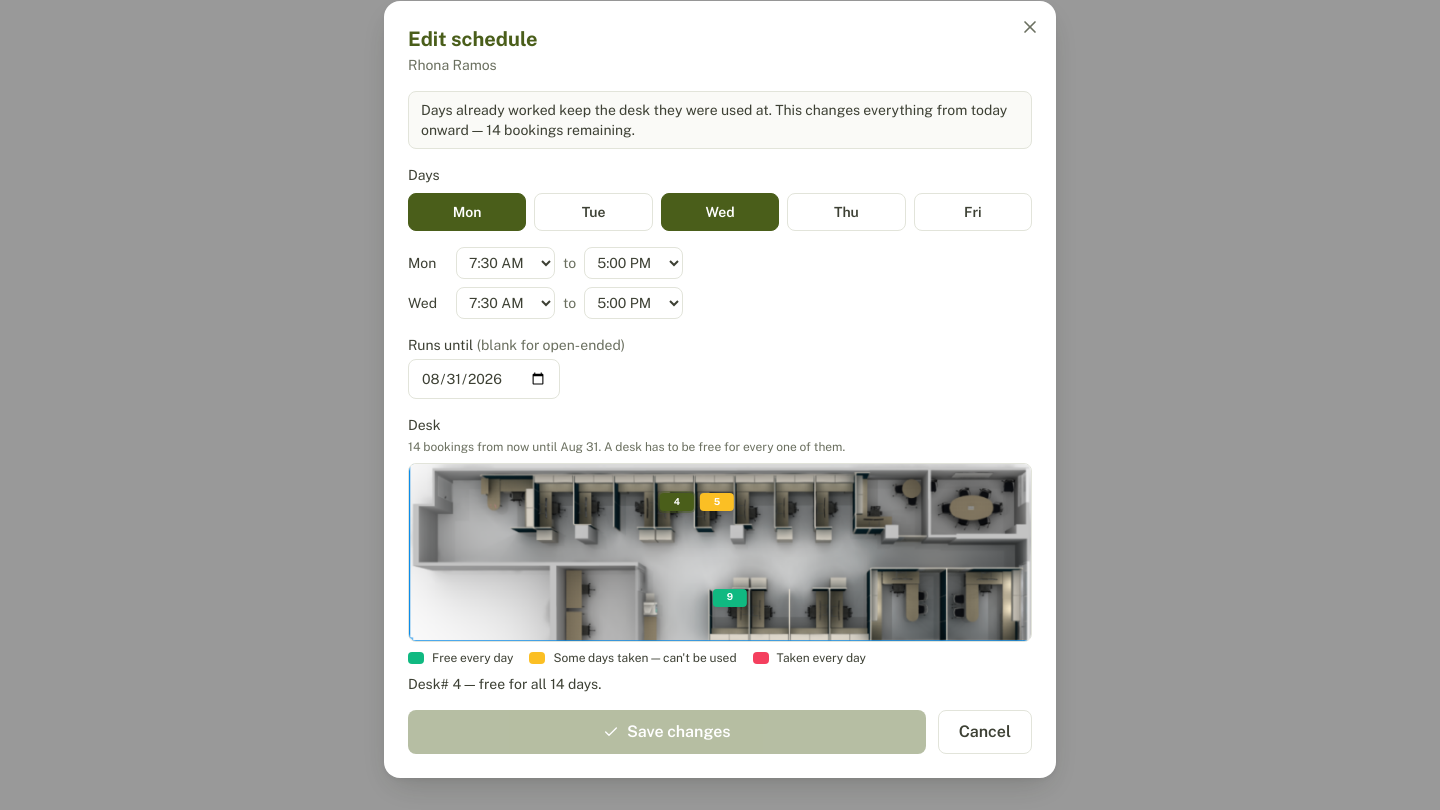
a refusal from the server is shown and the dialog stays open
(page scrolled)
Step 1. Click the button named "Desk 9, available" → point(730, 598), box [713,589,747,606]
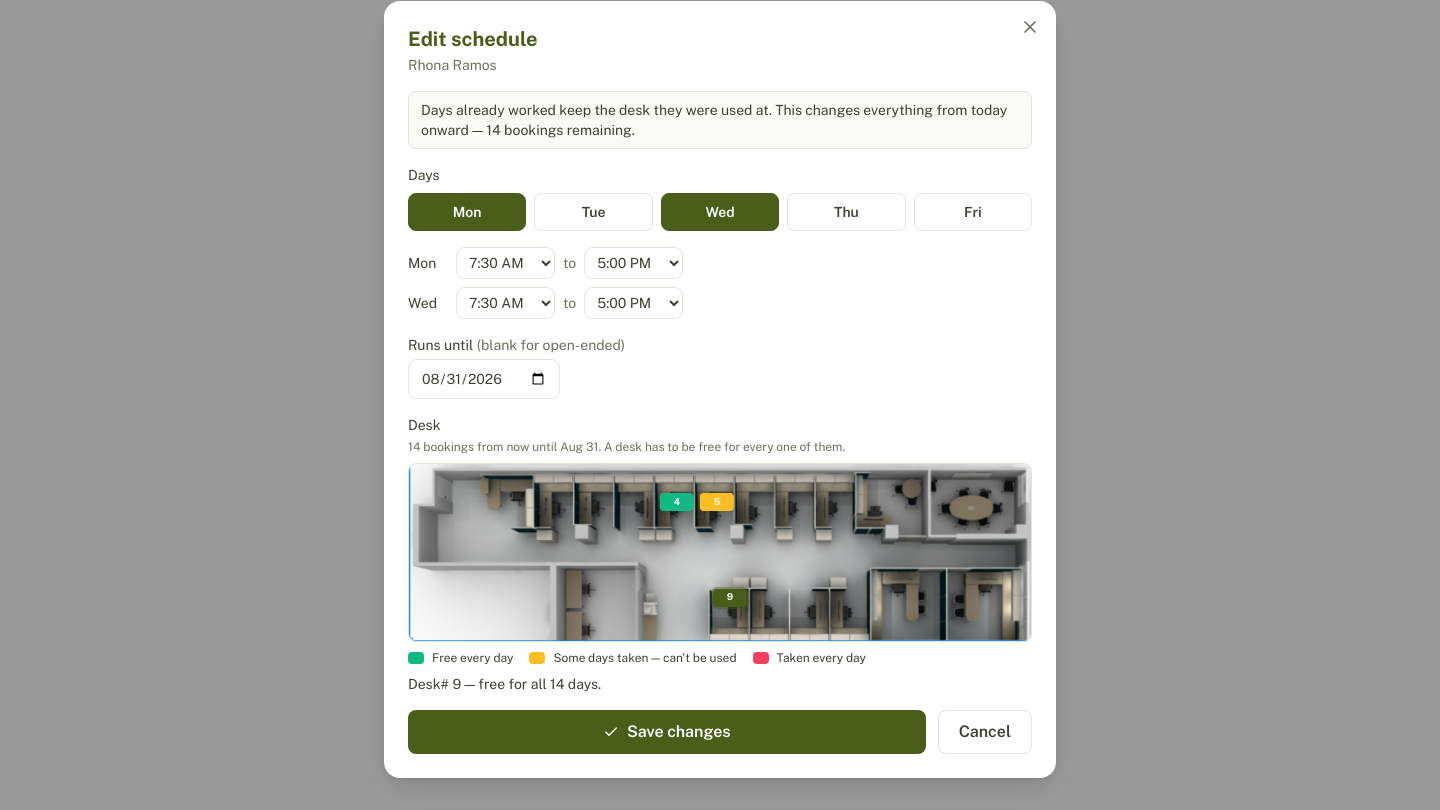
Step 2. Click the button "Save changes" → point(667, 732), box [408,710,926,754]
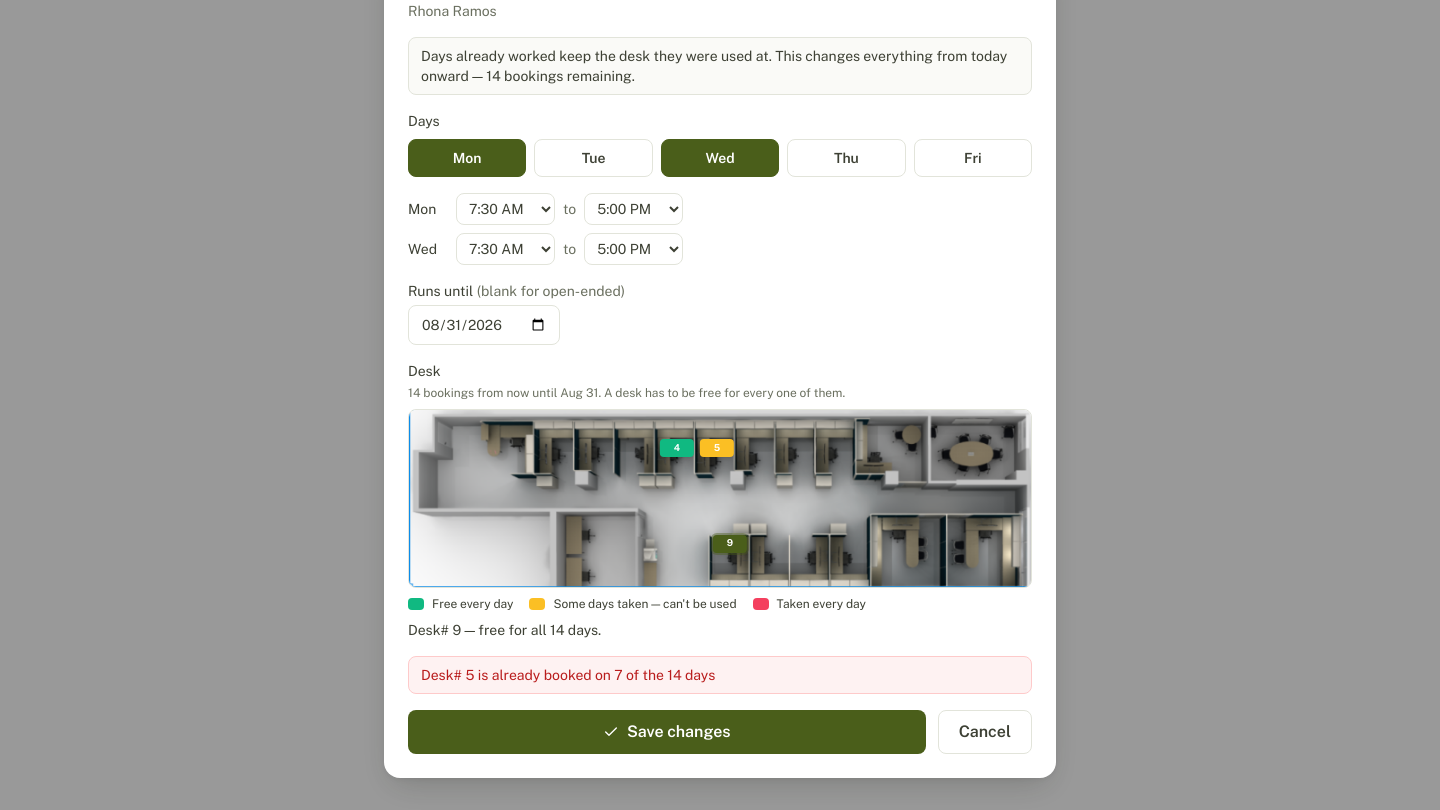
Expected: the text "Desk# 5 is already booked on 7 of the 14 days" is shown, [408,656,1032,694]
